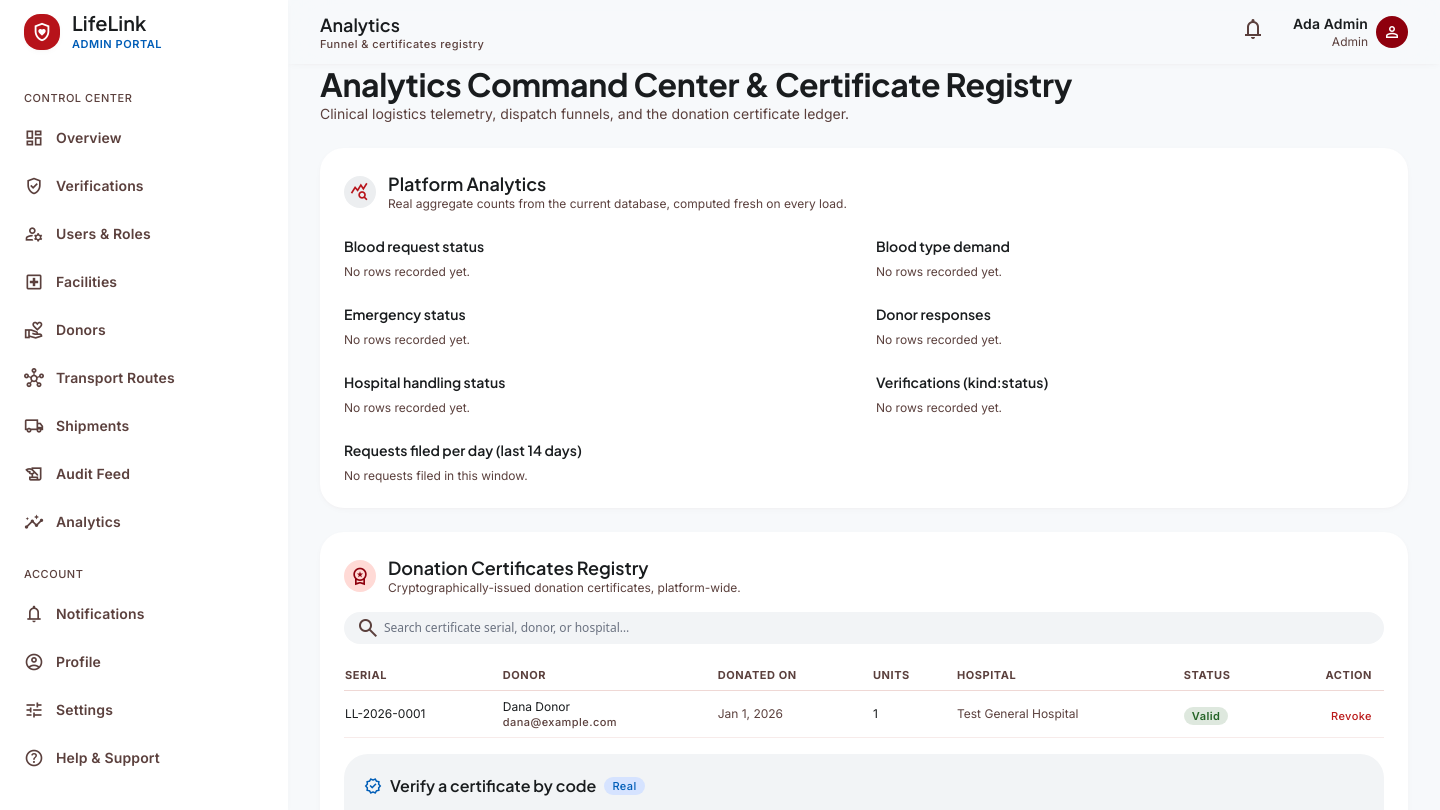
Test case: AdminAnalytics certificate registry › disables repeat submission while the revoke mutation is pending
This screenshot has width=1440, height=810.
Click the button "Revoke".
click(1352, 716)  # box [1331,709,1372,723]
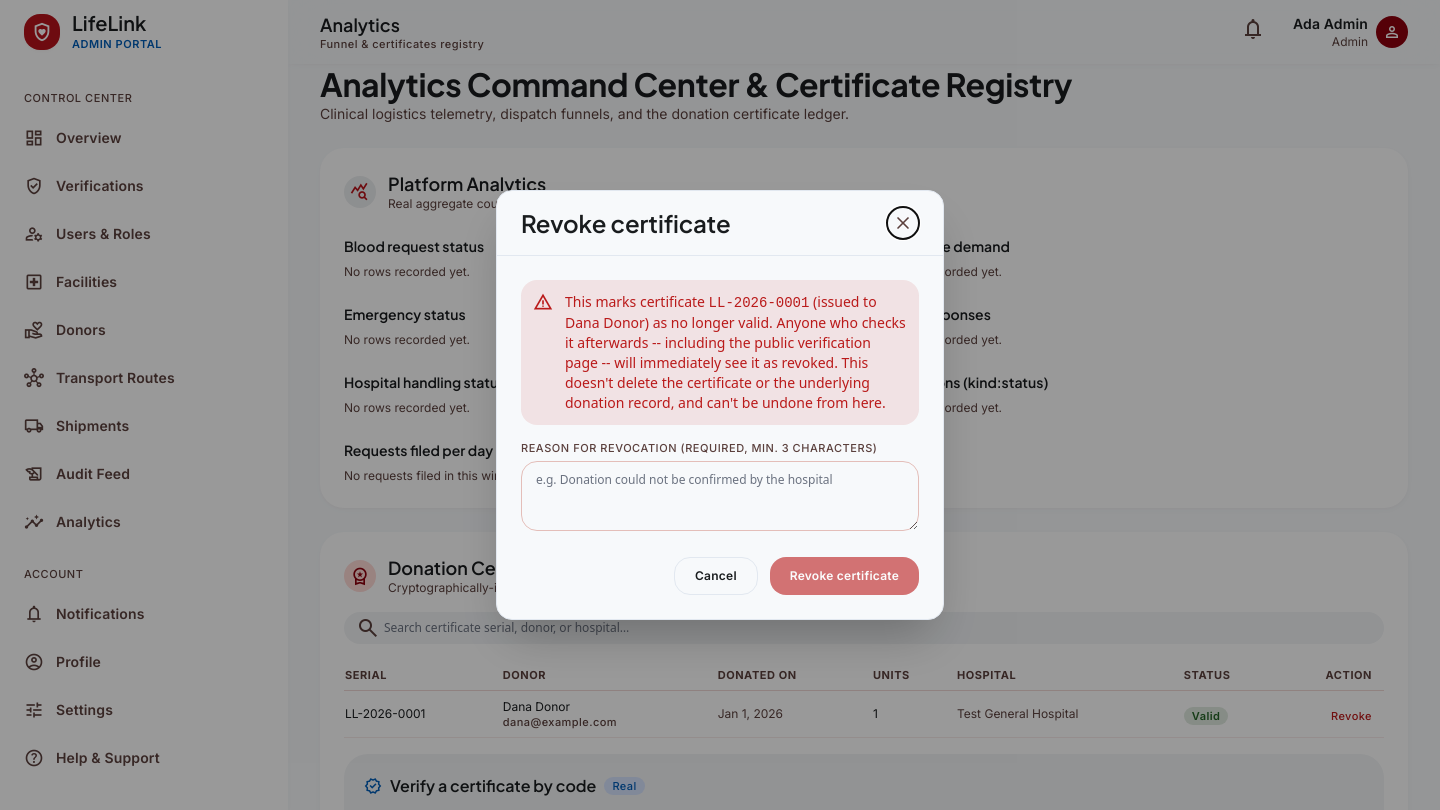
Now the heading "Revoke certificate" is shown, box [521,207,730,239]
Type "Donation could not be confirmed." into the text box labelled "Reason for revocation (required, min. 3 characters)".
click(720, 496); type("Donation could not be confirmed.")  # box [521,461,919,531]
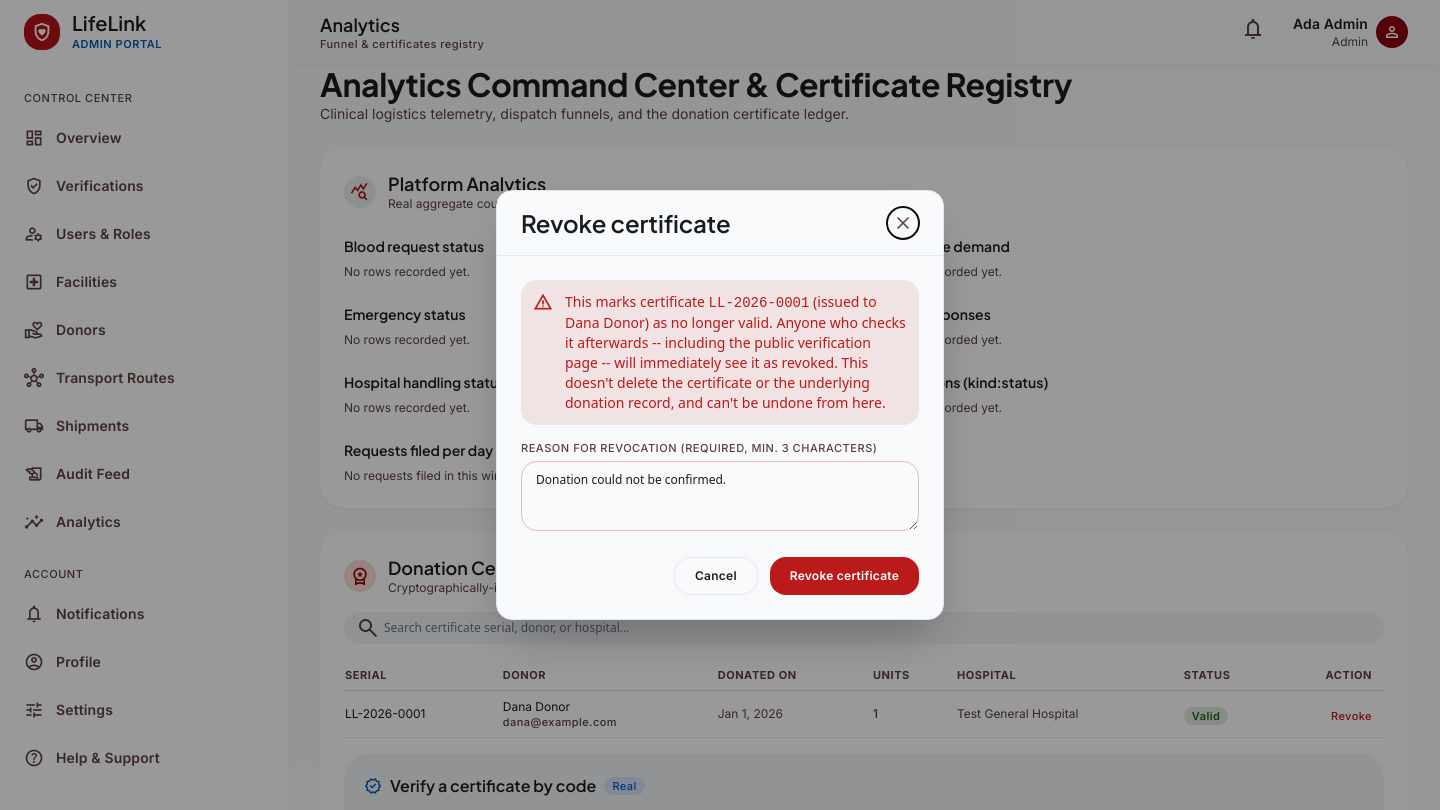
Click the button "Revoke certificate".
click(844, 576)  # box [770,557,919,595]
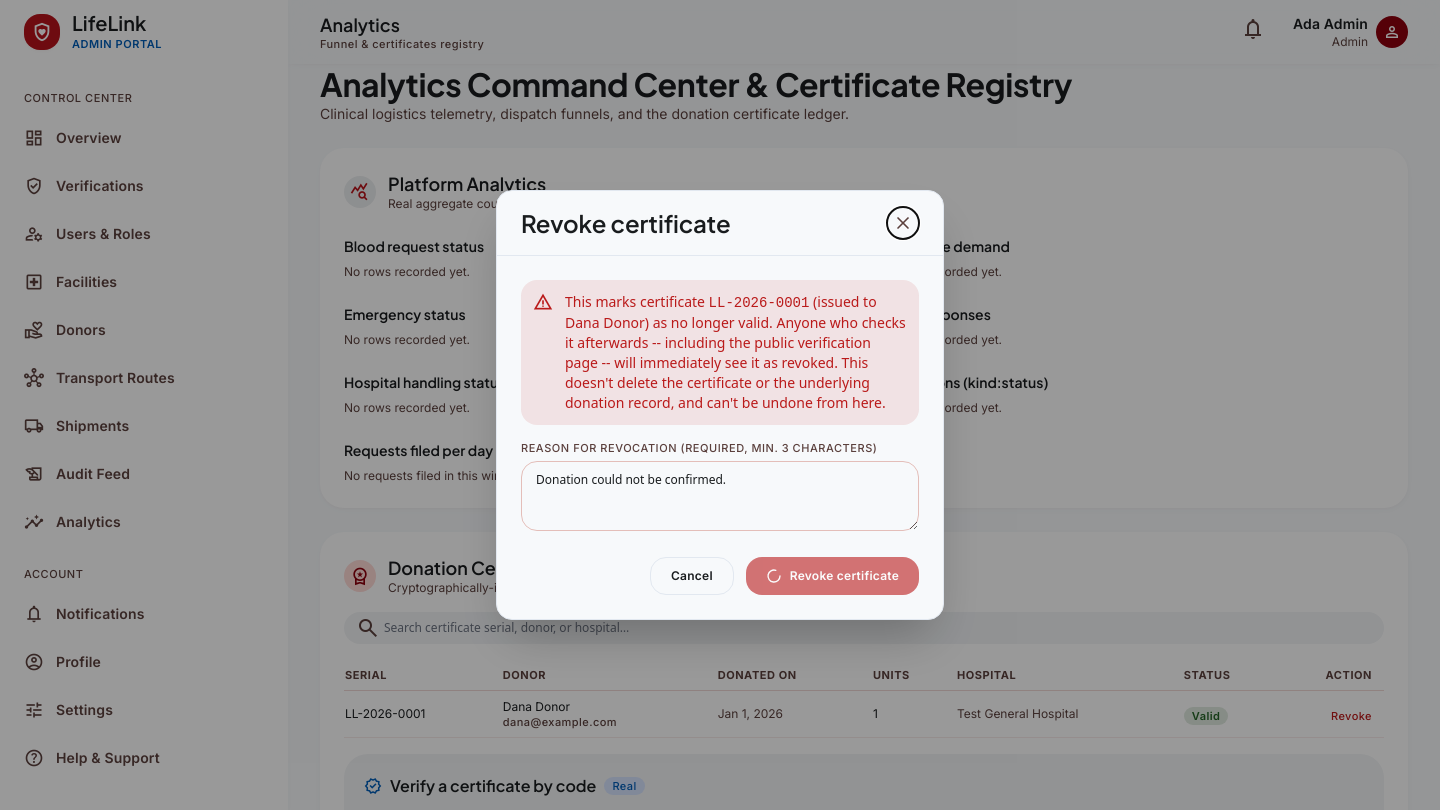
Now the button "Revoke certificate" is disabled, box [746,557,919,595]
